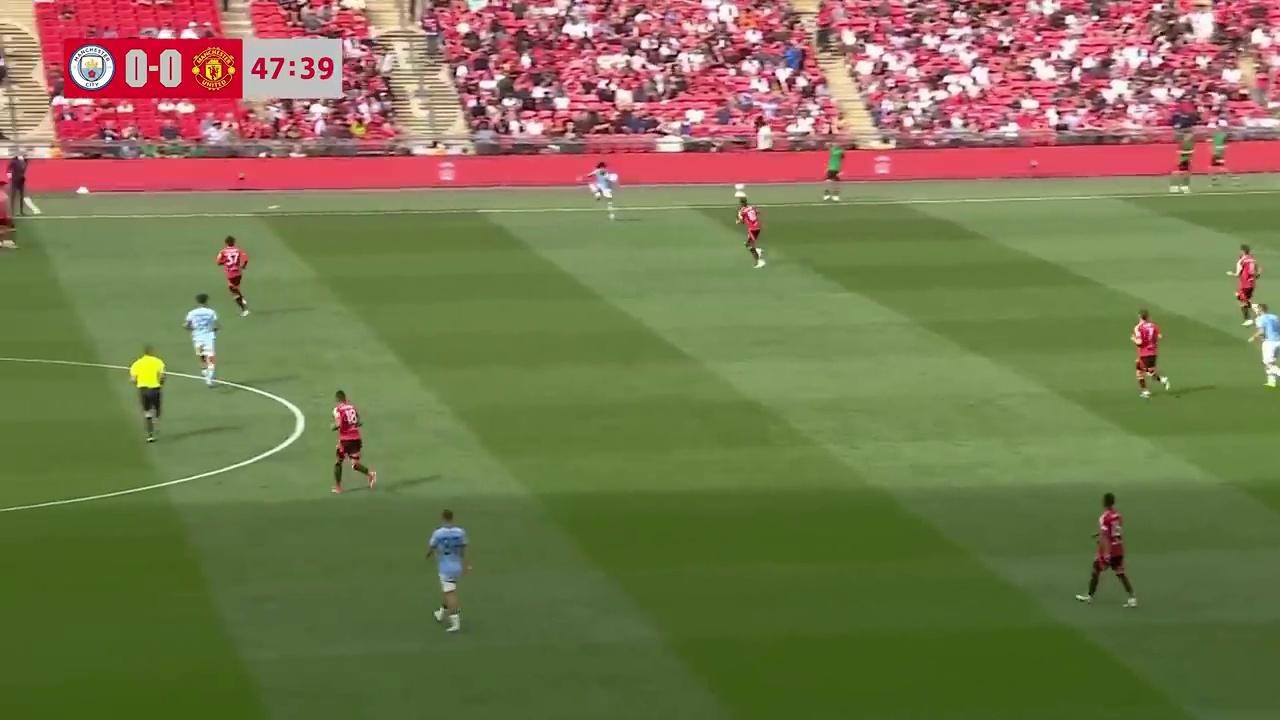ball: (606, 170, 620, 184)
player: (1077, 493, 1138, 608), (425, 508, 471, 633), (329, 390, 376, 493), (1130, 309, 1169, 399), (183, 293, 220, 383), (1228, 244, 1263, 327), (1247, 300, 1280, 388), (215, 234, 249, 317), (736, 200, 764, 268), (589, 163, 619, 223), (0, 183, 17, 251)
referee: (129, 343, 167, 442)
